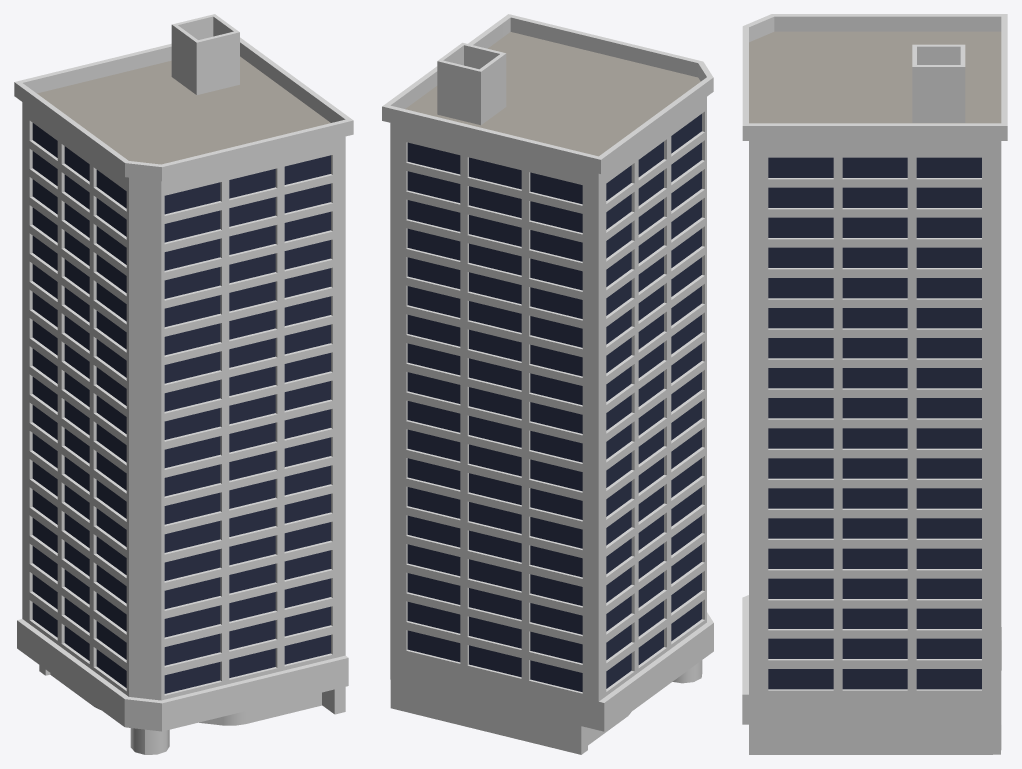
The model's file is MOD_MediumBuilding_A.fbx.
3 views of the same model, side by side, from view 1: azimuth 30°, elevation 25°; view 2: azimuth 150°, elevation 25°; view 3: azimuth 270°, elevation 25° (orthographic). The views are drawn at different scales.
Parts seen in each view (by area): view 1: MOD_MediumBuilding_A_LOD0; view 2: MOD_MediumBuilding_A_LOD0; view 3: MOD_MediumBuilding_A_LOD0.
Boxes of the visible parts, x1,y1,x2,y2 form: MOD_MediumBuilding_A_LOD0: (14, 14, 353, 754); MOD_MediumBuilding_A_LOD0: (382, 14, 713, 754); MOD_MediumBuilding_A_LOD0: (742, 14, 1007, 754).
Size of the model in its own units: 3995 by 11182 by 3995.
